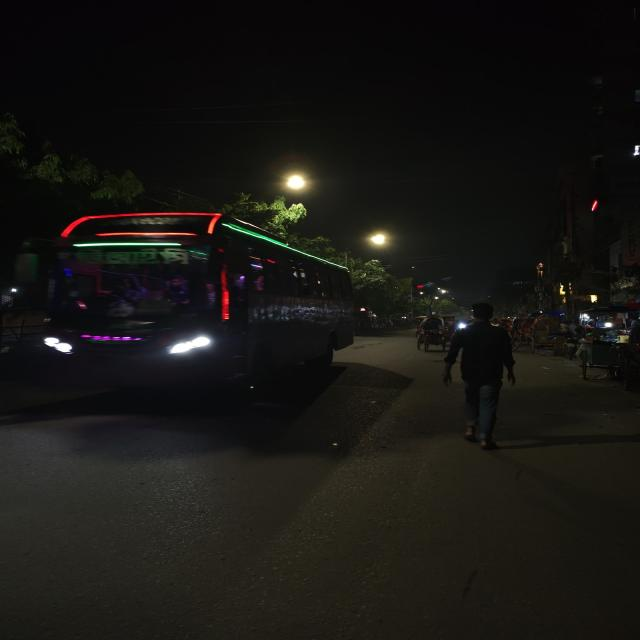bus: (28, 201, 359, 415)
pedestrian: (438, 303, 526, 450)
rickshaw: (410, 312, 451, 353)
